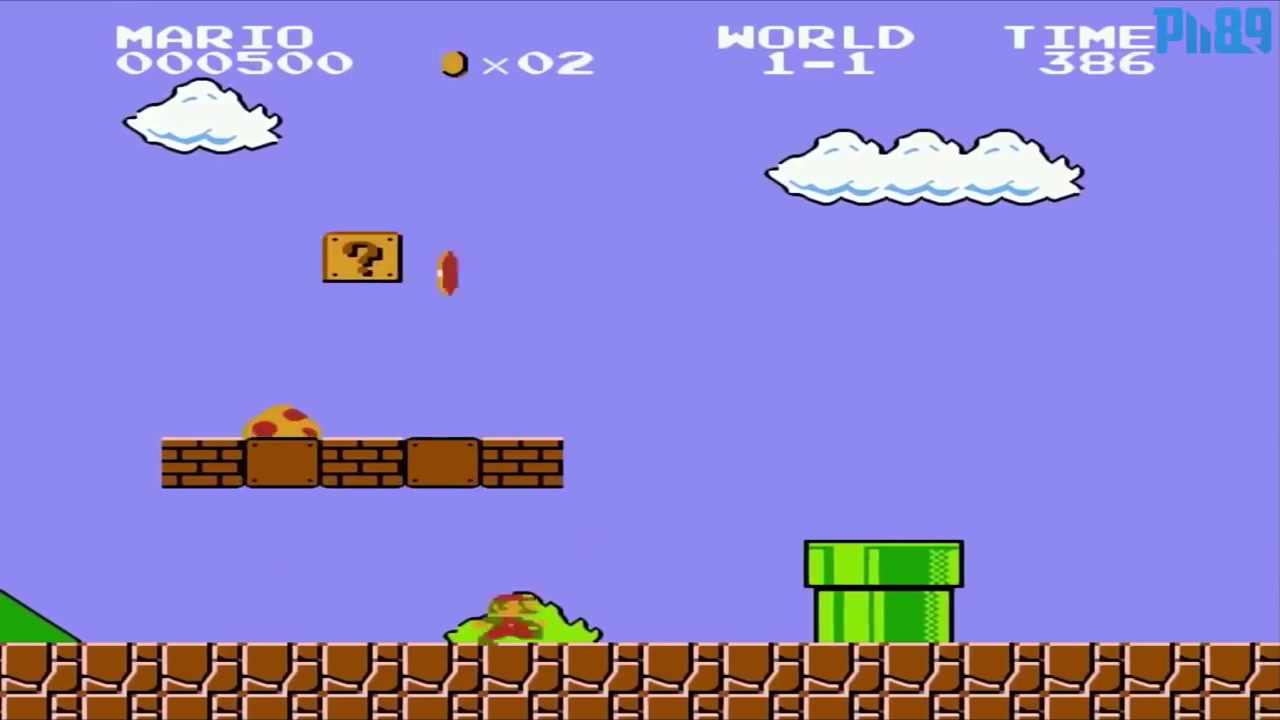mario: (468, 583, 552, 655)
